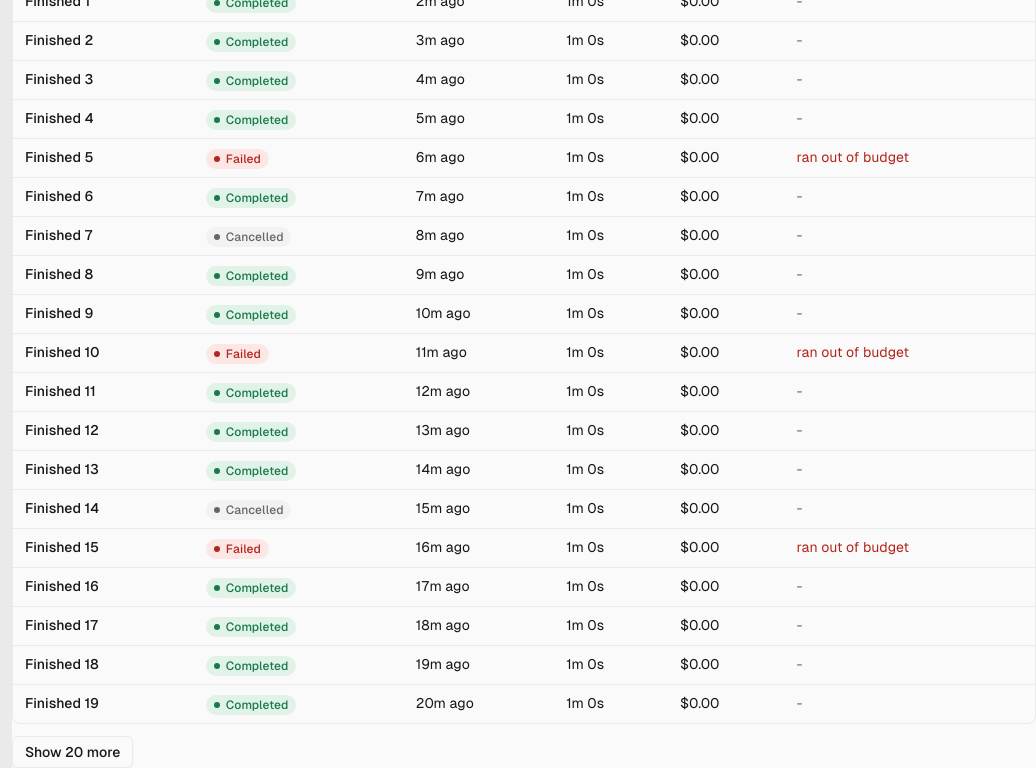
Test: the history › shows a page of twenty and the next twenty when asked
(page scrolled)
Click the button "Show 20 more" at (73, 752), box [12,736,133,767]
(page scrolled)
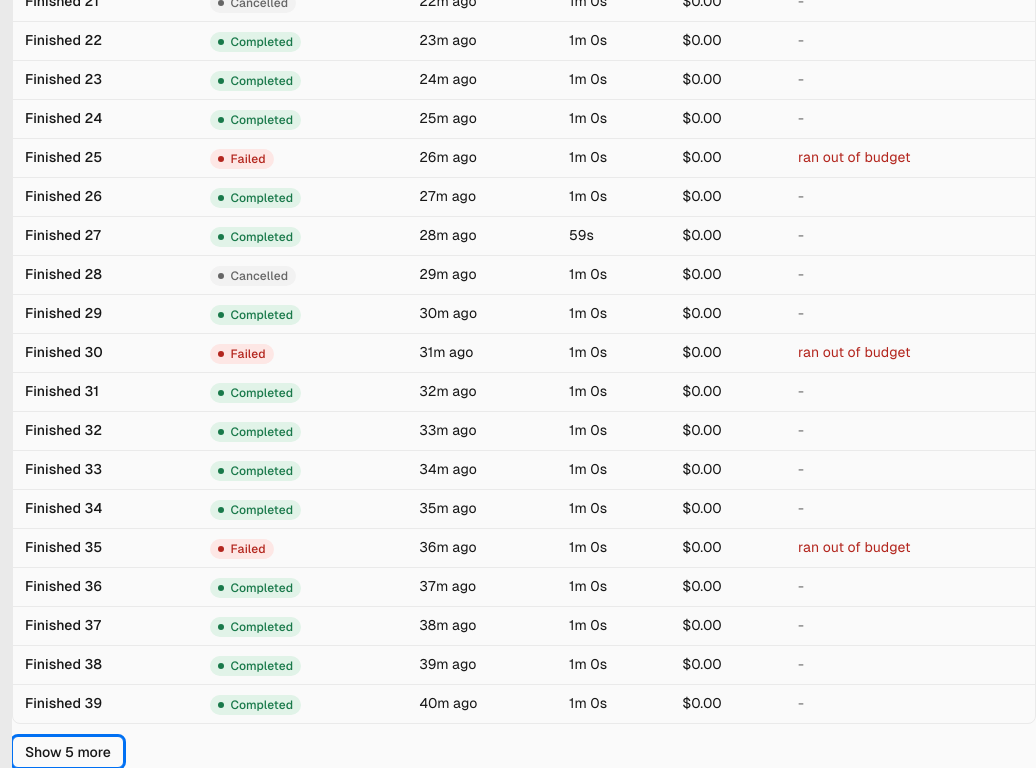
Click the button "Show 5 more" at (68, 752), box [12,736,124,767]
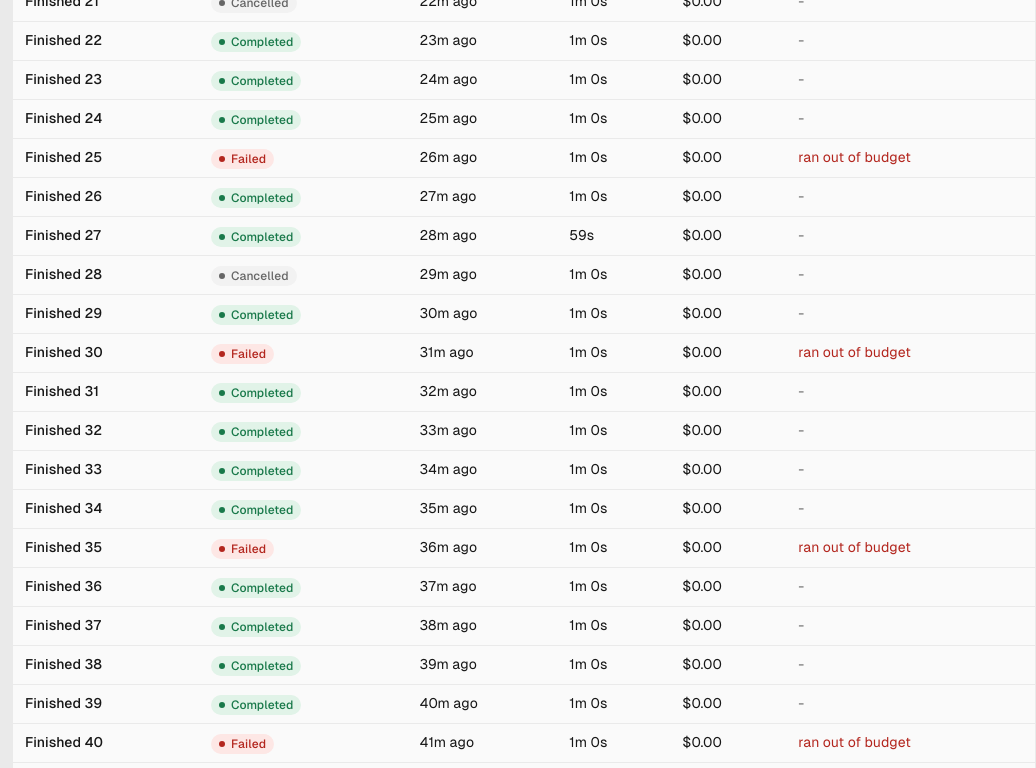
Check: the button "Show" is gone
